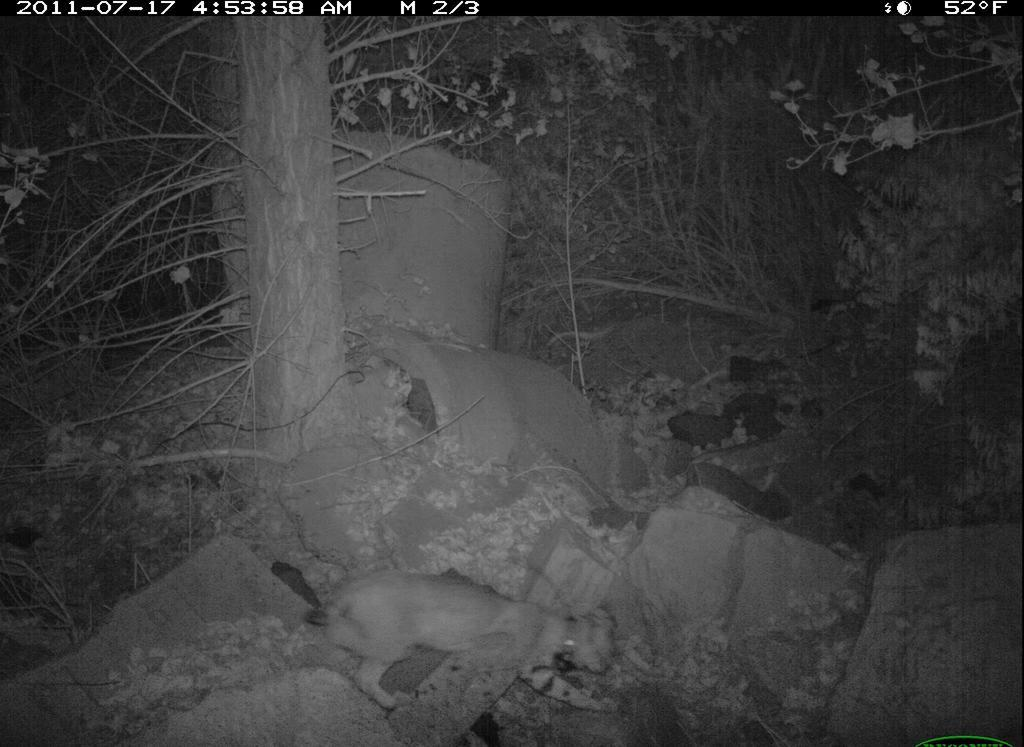bobcat: (313, 543, 625, 721)
